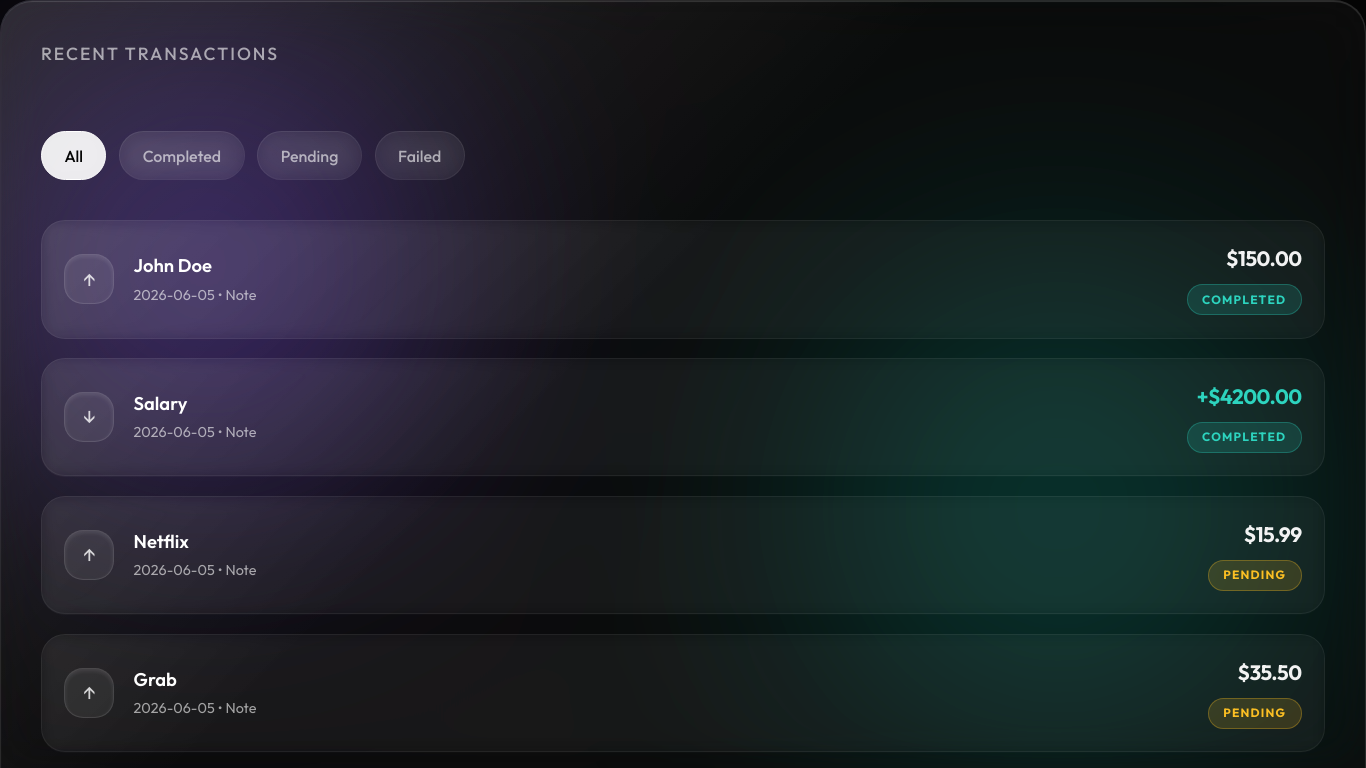
TransactionList filter actions › FILTER-03: clicking Pending shows pending items only
Click the button "Pending".
click(310, 156)  # box x1=257 y1=131 x2=362 y2=180
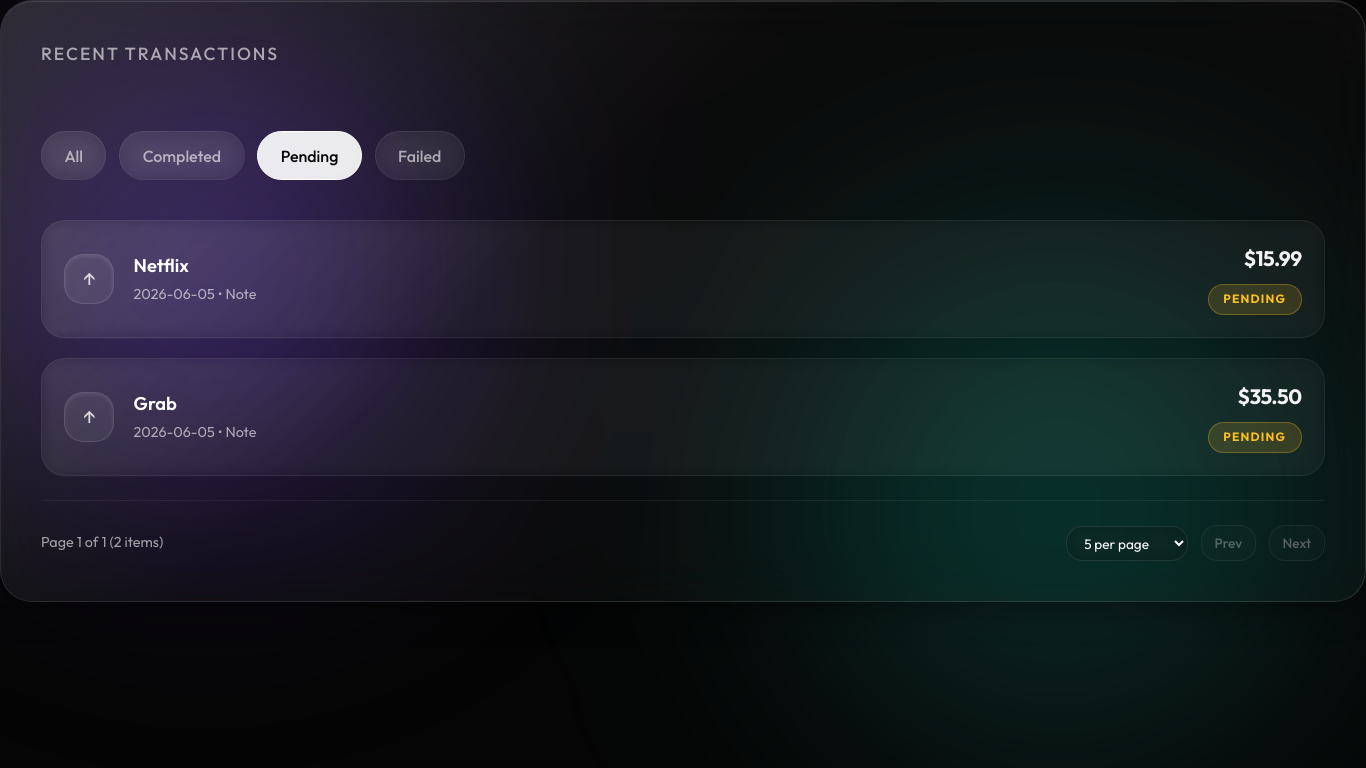
Check: the heading "Netflix" is shown, box x1=134 y1=254 x2=189 y2=277
Check: the heading "John Doe" is gone
Check: the heading "Salary" is gone
